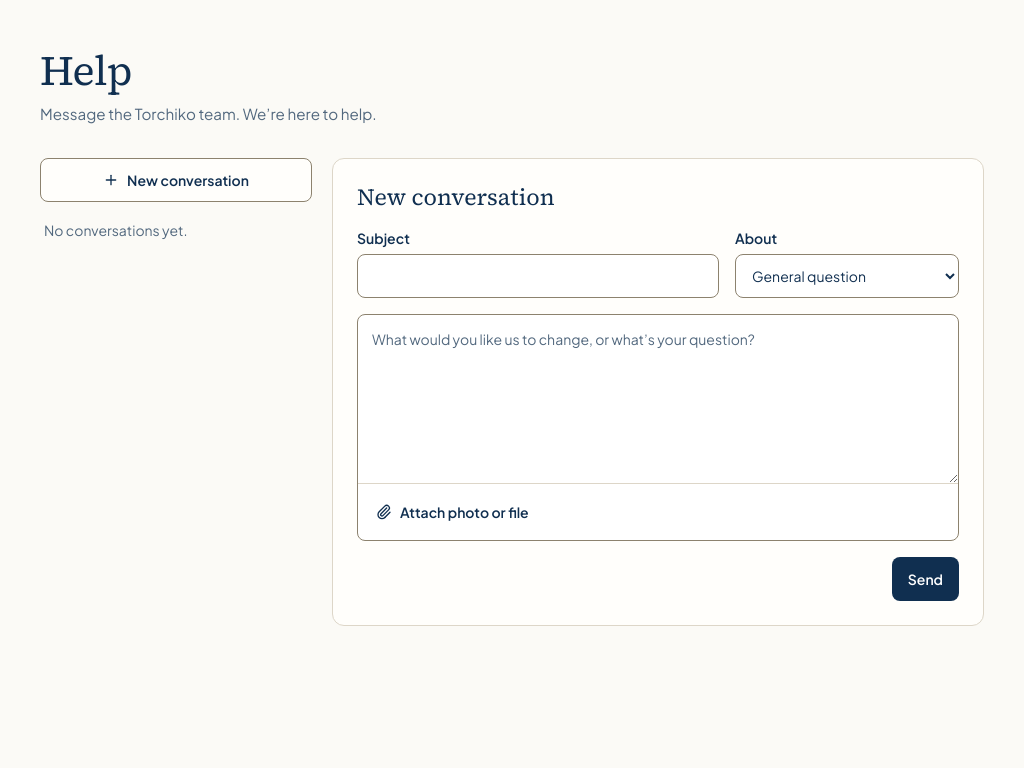
Test case: SupportWorkspace › does not claim a create succeeded while pending or after failure, and preserves the draft
The image size is (1024, 768).
Type "New visitor hours" into the field labelled "Subject".
click(538, 276); type("New visitor hours")  # box [357,254,719,298]
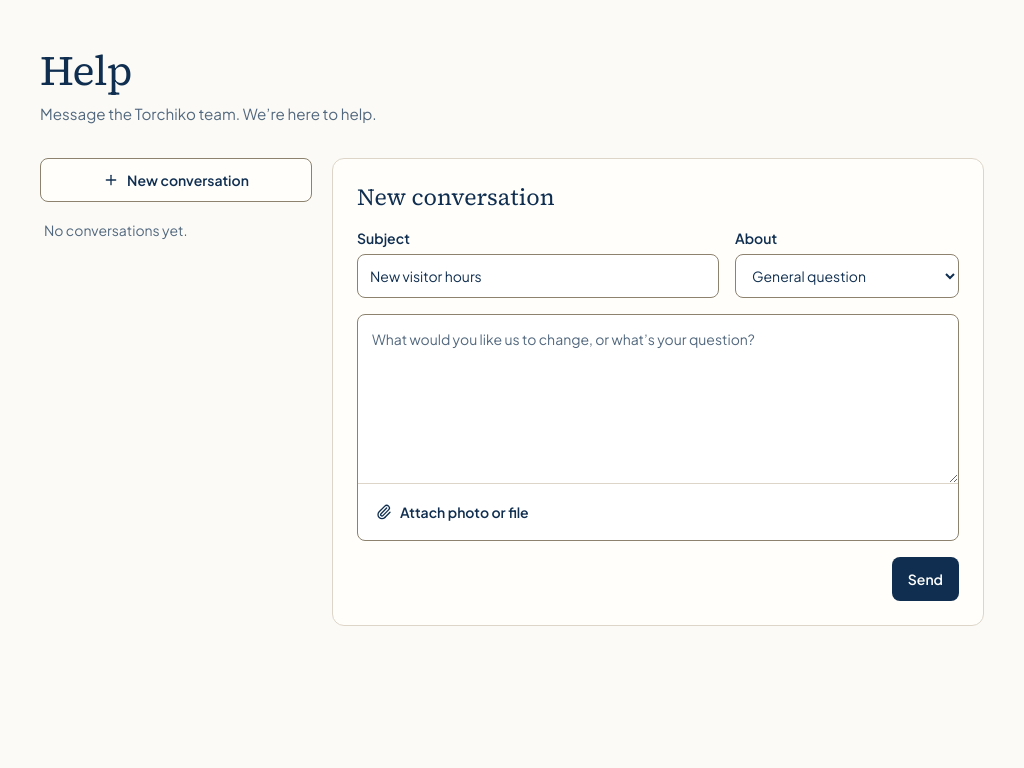
Type "Please show our summer schedule." into the text box named "Message".
click(658, 399); type("Please show our summer schedule.")  # box [358,315,958,483]
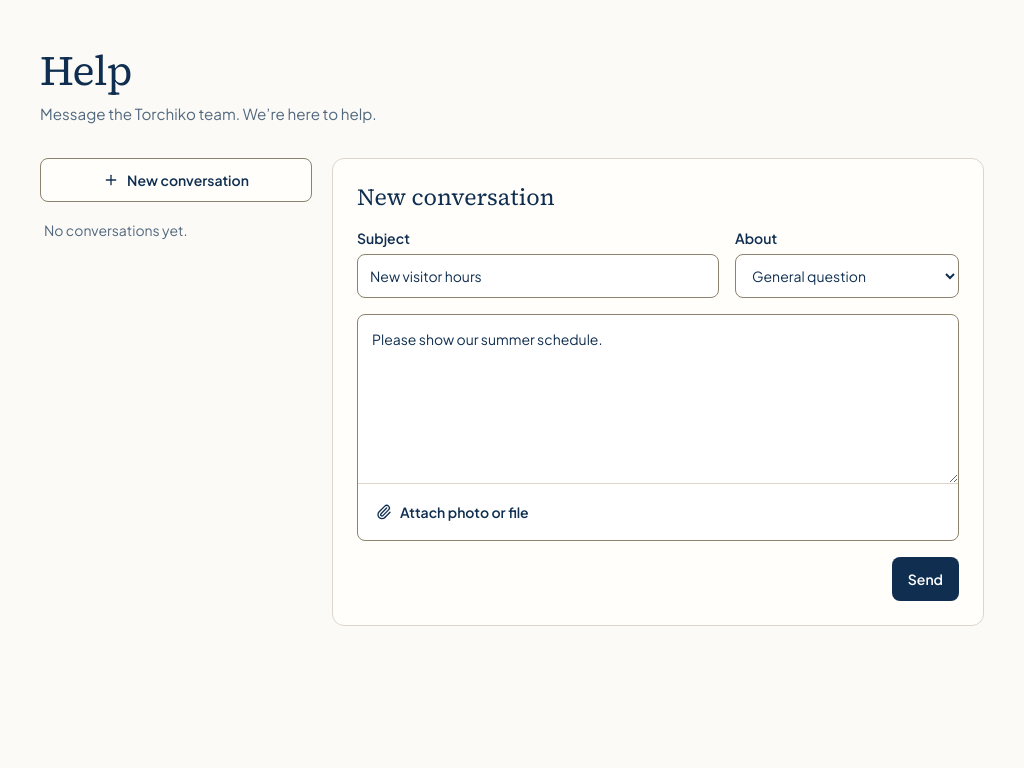
Click the button "Send".
click(925, 579)  # box [892,557,959,601]
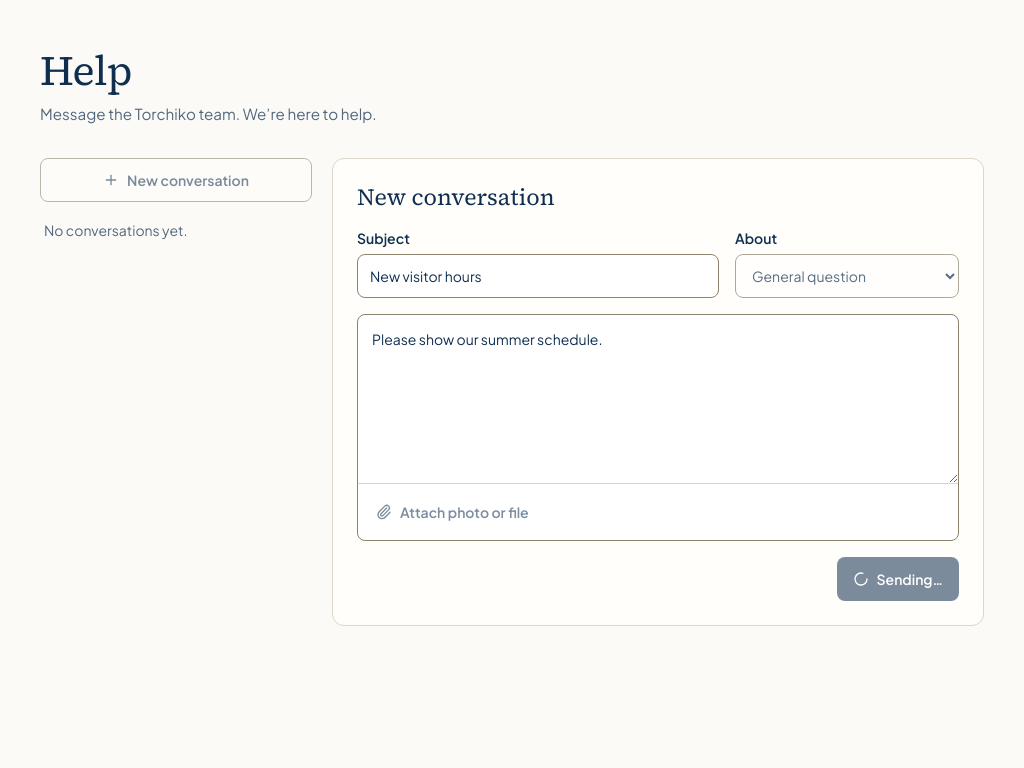
Click the button "Sending…".
click(898, 579)  # box [836,557,959,601]
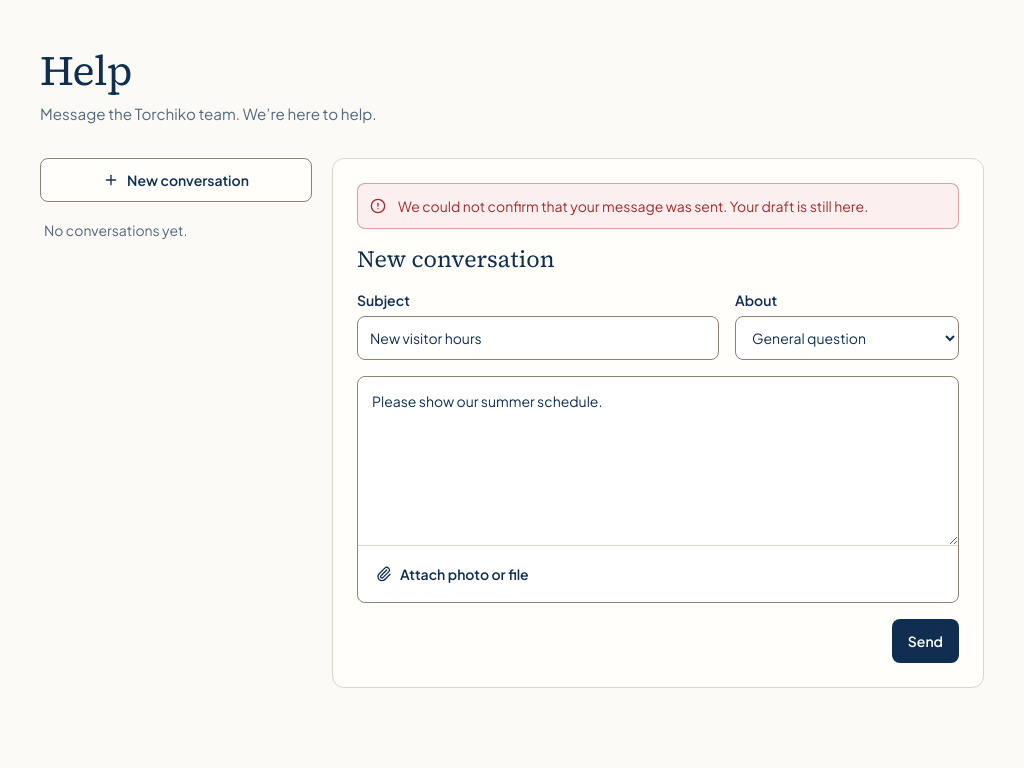
Expected: the message shows "draft is still here", [398,197,868,215]
